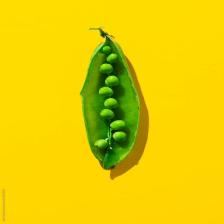green: (80, 27, 139, 170)
